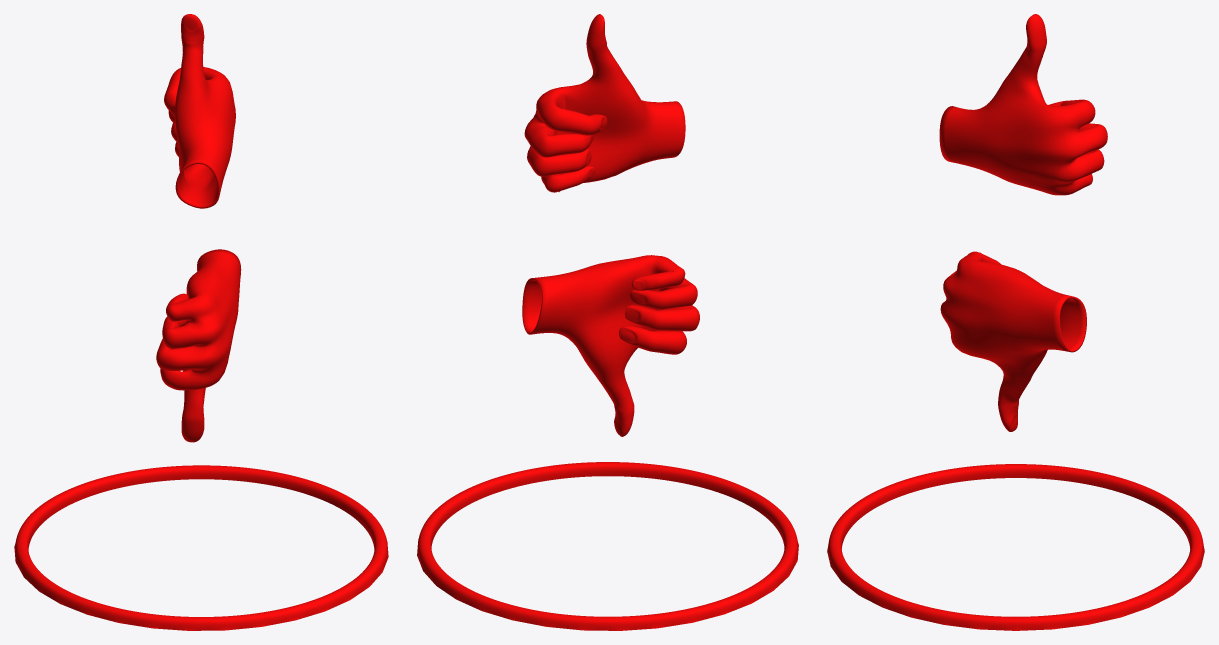
The model's file is drone_iniciated guidance request.fbx.
The picture shows the model from 3 angles, left to right: view 1: azimuth 30°, elevation 25°; view 2: azimuth 150°, elevation 25°; view 3: azimuth 270°, elevation 25°; orthographic projection. The views are drawn at different scales.
Parts seen in each view (by area): view 1: Circle.001, theooo-base.006, theooo-base.010; view 2: theooo-base.006, theooo-base.010, Circle.001; view 3: theooo-base.010, theooo-base.006, Circle.001.
Boxes of the visible parts, <box> form: Circle.001: <box>14,465,388,630</box>; theooo-base.006: <box>156,249,241,442</box>; theooo-base.010: <box>164,14,235,208</box>; theooo-base.006: <box>522,255,699,436</box>; theooo-base.010: <box>524,14,685,192</box>; Circle.001: <box>417,462,798,630</box>; theooo-base.010: <box>939,14,1107,195</box>; theooo-base.006: <box>940,251,1086,431</box>; Circle.001: <box>827,464,1204,630</box>.
Bounding box in the file's own units: 82.03 × 128 × 82.03.
